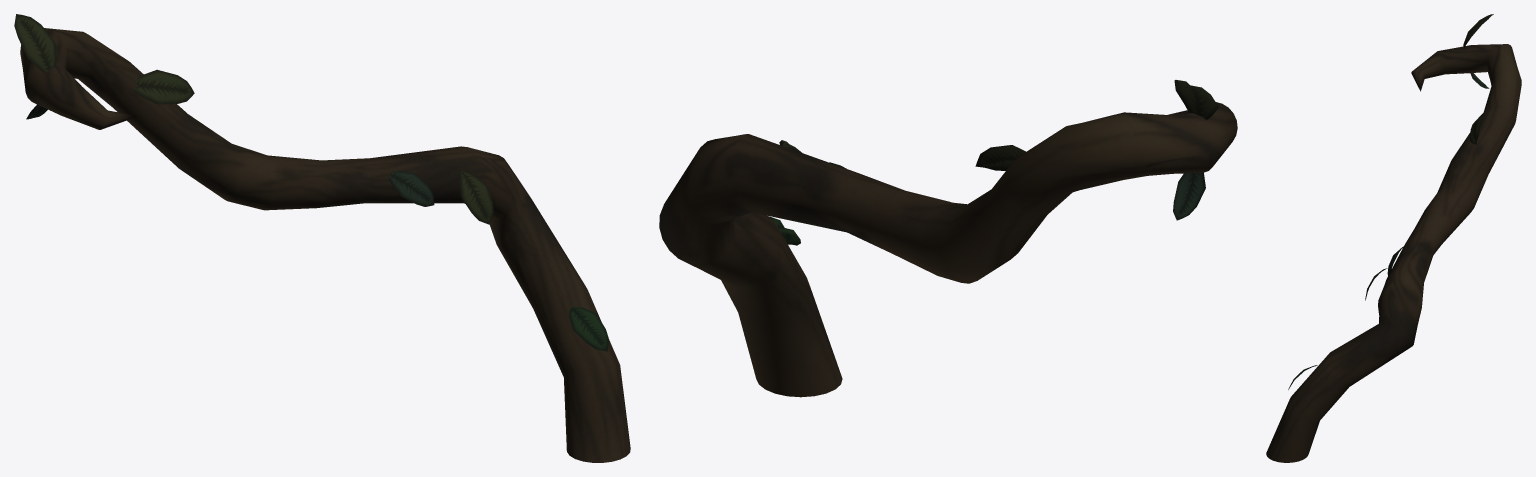
File: raiz4.fbx
3 renders of one model, left to right at view 1: azimuth 30°, elevation 25°; view 2: azimuth 150°, elevation 25°; view 3: azimuth 270°, elevation 25°, orthographic. The views are drawn at different scales.
Visible parts, largest first — view 1: polySurface85, pPlane38, pPlane24, pPlane21, pPlane22, pPlane34; view 2: polySurface85, pPlane25, pPlane38, pPlane24; view 3: polySurface85.
Boxes of the visible parts, x1,y1,x2,y2 form: polySurface85: [20, 28, 630, 462]; pPlane38: [14, 14, 56, 72]; pPlane24: [134, 69, 194, 104]; pPlane21: [459, 170, 493, 224]; pPlane22: [569, 306, 608, 351]; pPlane34: [389, 171, 434, 206]; polySurface85: [659, 102, 1237, 397]; pPlane25: [1173, 172, 1205, 220]; pPlane38: [1174, 80, 1218, 120]; pPlane24: [975, 145, 1025, 170]; polySurface85: [1266, 44, 1521, 462].
Bounding box in the file's own units: 85.21 × 74.35 × 58.3.
2 materials, 2 textured.
